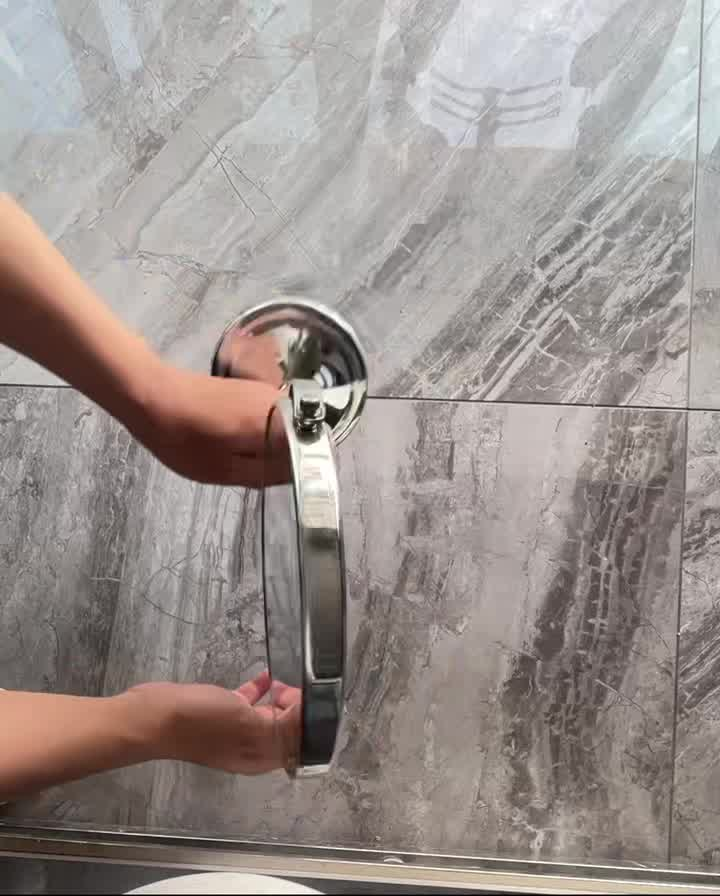base: (202, 286, 409, 423)
mirror: (243, 386, 370, 773)
